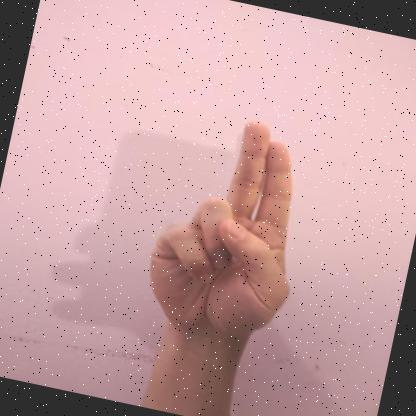U: (150, 121, 292, 339)
